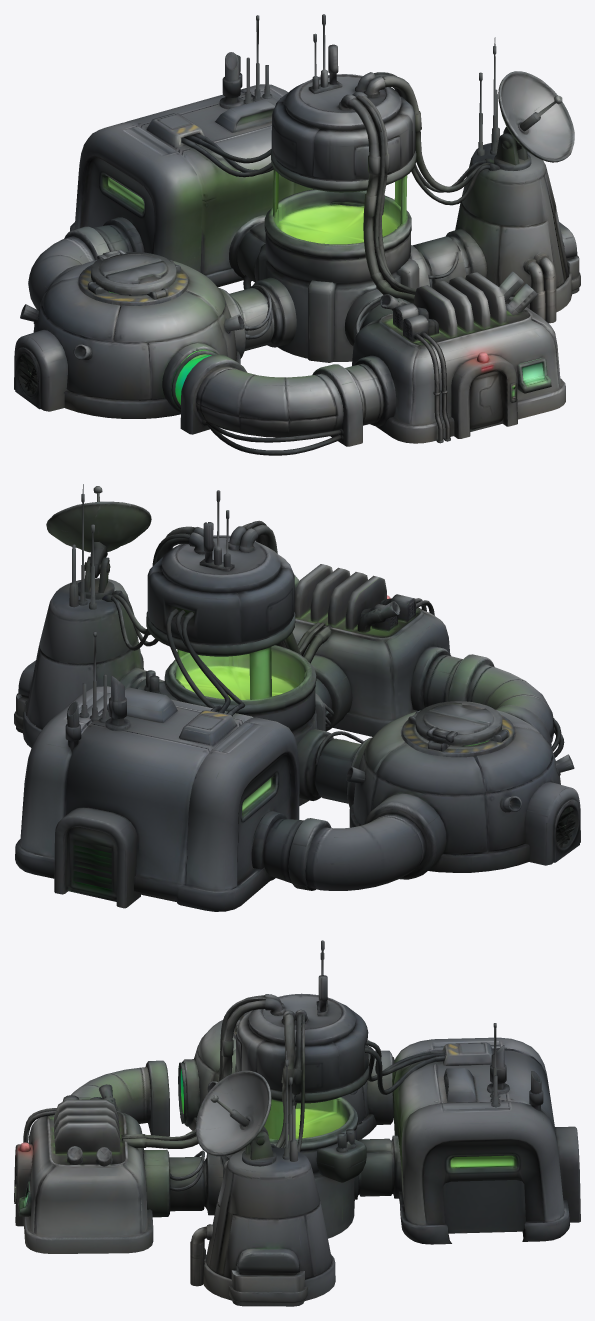
File: aussenposten_shady_lab_01.glb
The picture shows the model from 3 angles, top to bottom: view 1: azimuth 30°, elevation 25°; view 2: azimuth 150°, elevation 25°; view 3: azimuth 270°, elevation 25°; orthographic projection. The views are drawn at different scales.
Parts seen in each view (by area): view 1: shady_lab_01; view 2: shady_lab_01; view 3: shady_lab_01.
Boxes of the visible parts, x1=… form: shady_lab_01: x1=14, y1=14, x2=580, y2=455; shady_lab_01: x1=14, y1=484, x2=580, y2=911; shady_lab_01: x1=14, y1=940, x2=580, y2=1306.
Bounding box in the file's own units: 20 × 10.78 × 20.
Materials: 1 (1 with a texture image).
